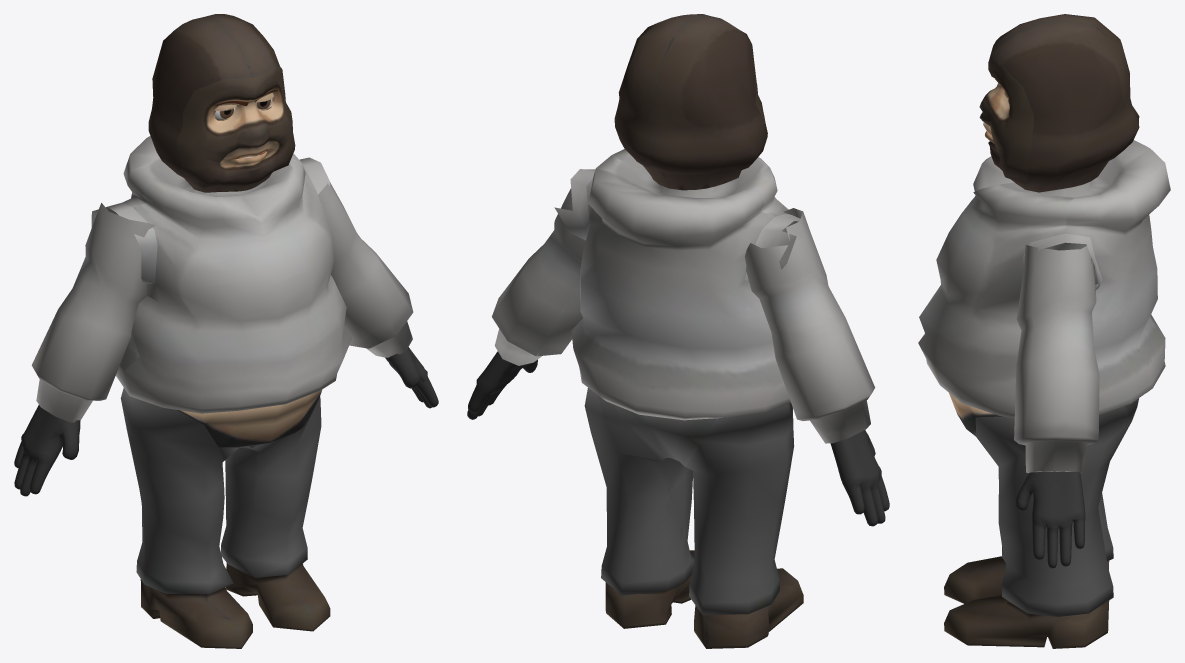
File: robber-transformed.glb
The picture shows the model from 3 angles, left to right: view 1: azimuth 30°, elevation 25°; view 2: azimuth 150°, elevation 25°; view 3: azimuth 270°, elevation 25°; orthographic projection. The views are drawn at different scales.
Parts seen in each view (by area): view 1: Cylinder.001, Circle; view 2: Cylinder.001, Circle; view 3: Cylinder.001, Circle.
Boxes of the visible parts, x1=… form: Cylinder.001: x1=14, y1=136, x2=438, y2=648; Circle: x1=148, y1=14, x2=295, y2=192; Cylinder.001: x1=467, y1=149, x2=889, y2=648; Circle: x1=614, y1=14, x2=767, y2=190; Cylinder.001: x1=918, y1=140, x2=1170, y2=648; Circle: x1=979, y1=14, x2=1139, y2=192.
Size of the model in its own units: 3.58 by 4.86 by 1.88.
2 materials, 2 textured.
